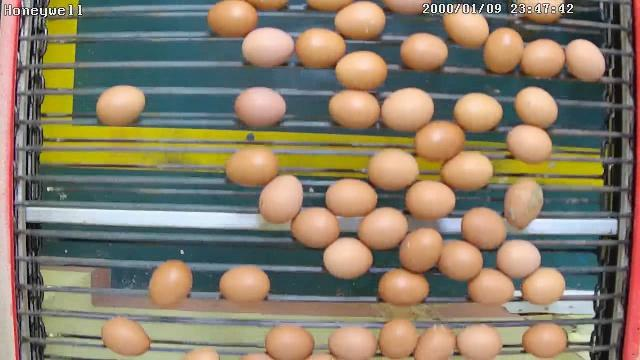egg: (256, 172, 306, 226), (402, 176, 458, 223), (436, 148, 494, 193), (379, 86, 435, 132), (224, 146, 282, 190), (146, 258, 195, 310), (354, 206, 408, 253), (320, 234, 375, 280), (412, 118, 467, 164), (366, 148, 421, 194), (240, 26, 296, 71), (93, 84, 147, 130), (98, 314, 154, 358), (502, 176, 546, 232), (293, 27, 347, 72), (233, 85, 288, 129), (326, 88, 381, 132), (442, 1, 491, 50), (288, 206, 342, 250), (396, 225, 444, 274), (376, 266, 432, 308), (333, 49, 389, 91), (504, 121, 556, 166), (463, 265, 516, 309), (459, 206, 507, 254), (218, 264, 272, 306), (324, 178, 378, 220), (333, 1, 388, 42), (436, 238, 485, 284), (562, 35, 608, 84), (452, 91, 503, 135), (513, 83, 560, 130), (519, 36, 567, 82), (398, 30, 450, 72), (205, 0, 258, 40), (496, 236, 542, 282), (482, 26, 524, 76), (263, 322, 316, 360), (326, 322, 378, 360), (520, 265, 568, 306), (521, 318, 570, 358), (453, 322, 503, 360), (411, 322, 458, 360), (378, 316, 418, 358)
